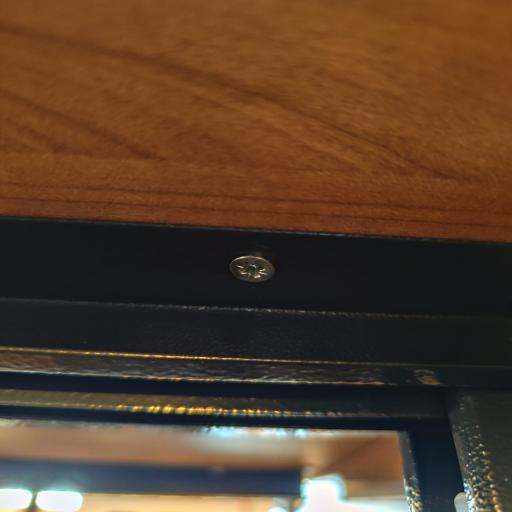Pozidriv: (227, 254, 278, 285)
